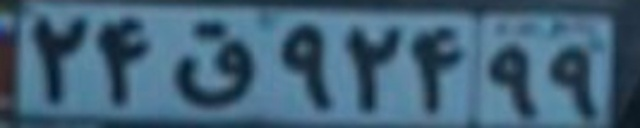2: (344, 25, 400, 113), (33, 13, 86, 104)
4: (95, 16, 154, 105), (410, 27, 462, 113)
9: (280, 24, 329, 111), (485, 46, 538, 118), (550, 47, 598, 118)
ghaf: (173, 22, 256, 106)
